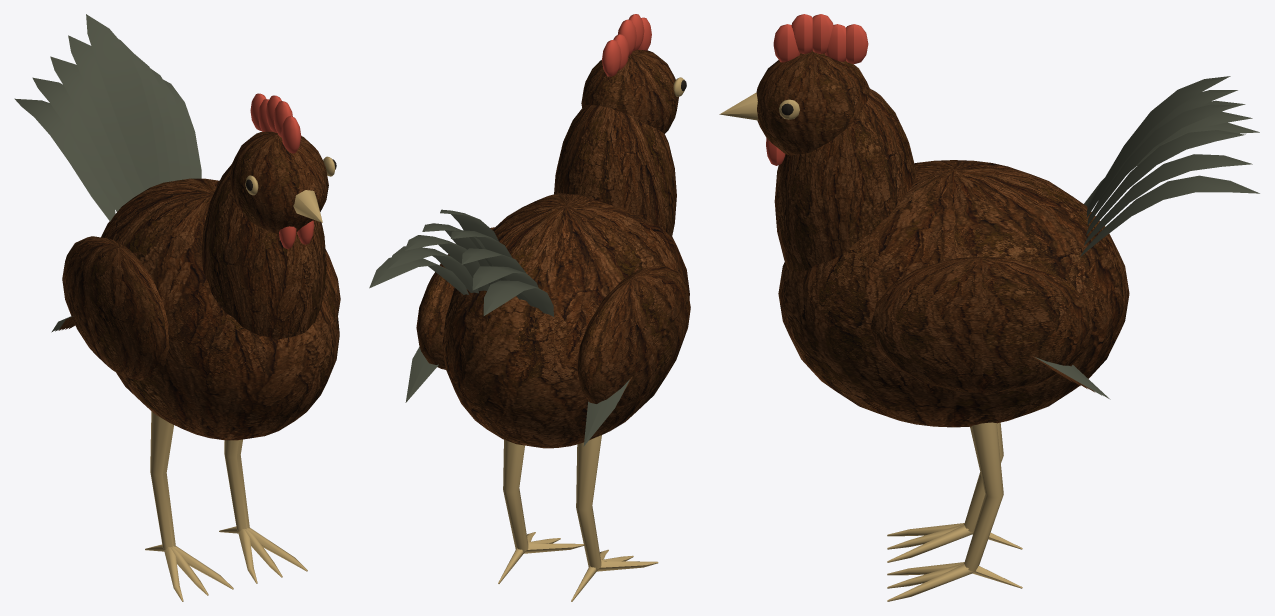
The model's file is prop_chicken.glb.
3 views of the same model, side by side, from view 1: azimuth 30°, elevation 25°; view 2: azimuth 150°, elevation 25°; view 3: azimuth 270°, elevation 25° (orthographic). The views are drawn at different scales.
Visible parts, largest first — view 1: prop_chicken; view 2: prop_chicken; view 3: prop_chicken.
Part boxes in pixels (x1,y1,x2,y2): prop_chicken: [14, 14, 340, 601]; prop_chicken: [369, 14, 690, 601]; prop_chicken: [719, 14, 1259, 601].
Size of the model in its own units: 0.1521 by 0.35 by 0.3094.
5 materials, 1 textured.
